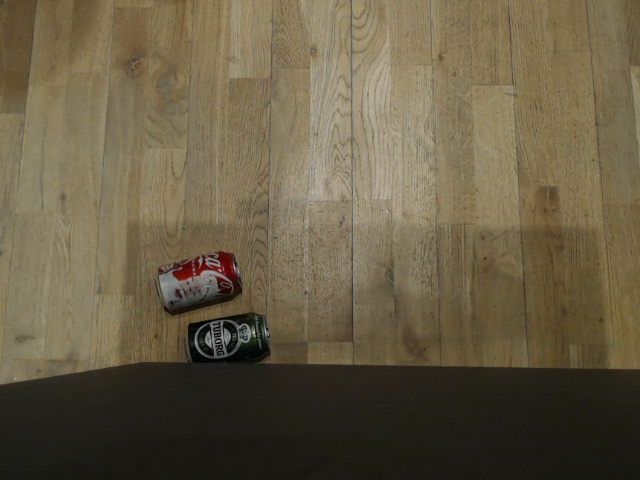beer: (183, 312, 273, 364)
cola: (156, 248, 245, 312)
